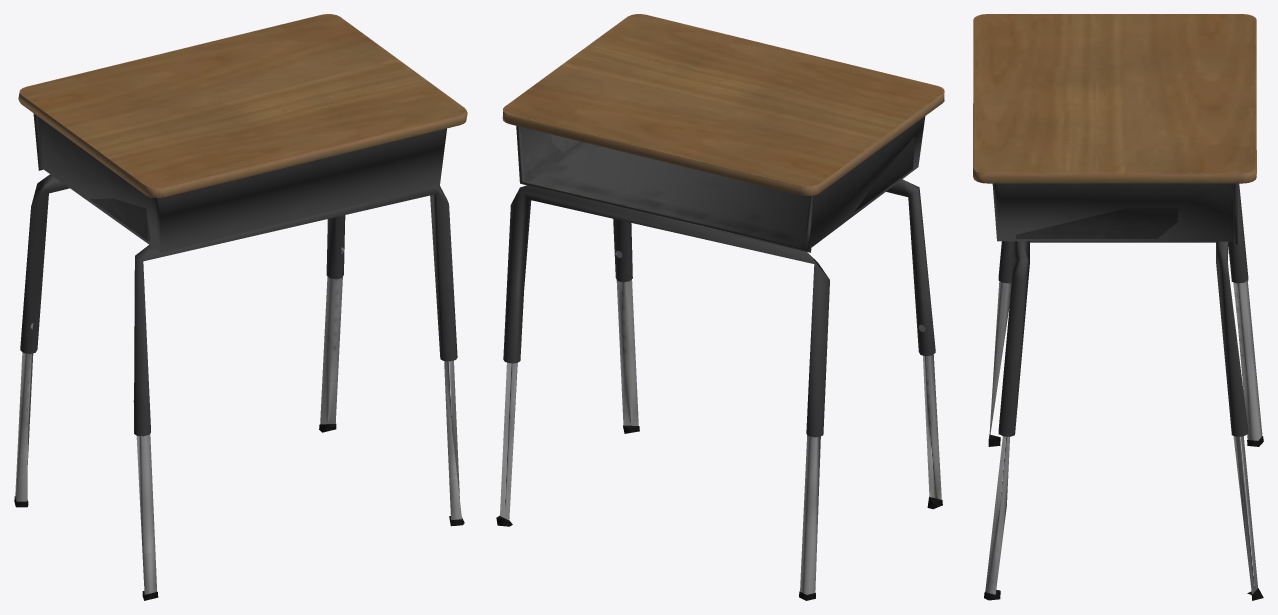
Rendered from SchoolDesk_01.glb.
3 renders of one model, left to right at view 1: azimuth 30°, elevation 25°; view 2: azimuth 150°, elevation 25°; view 3: azimuth 270°, elevation 25°, orthographic. The views are drawn at different scales.
Parts seen in each view (by area): view 1: SchoolDesk_01; view 2: SchoolDesk_01; view 3: SchoolDesk_01.
Part boxes in pixels (bbox=[...]): SchoolDesk_01: bbox=[14, 14, 467, 600]; SchoolDesk_01: bbox=[496, 14, 944, 600]; SchoolDesk_01: bbox=[973, 14, 1263, 600].
Bounding box in the file's own units: 0.7101 × 0.8826 × 0.5438.
1 material, 1 textured.
